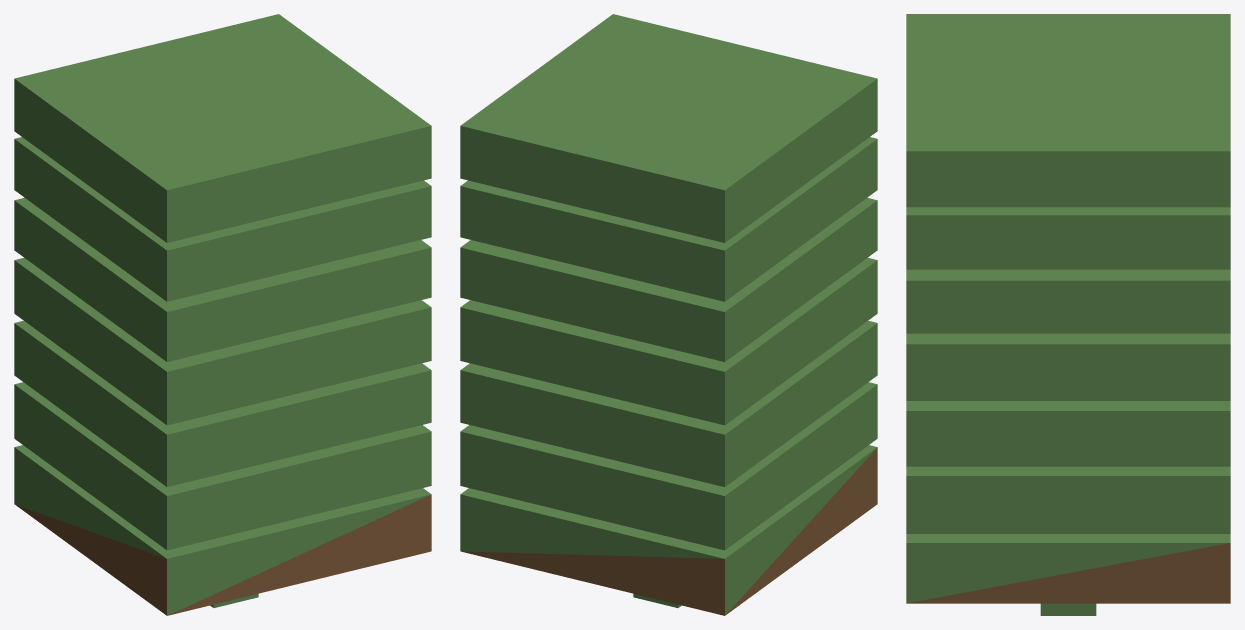
File: tree3d-044.glb
3 views of the same model, side by side, from view 1: azimuth 30°, elevation 25°; view 2: azimuth 150°, elevation 25°; view 3: azimuth 270°, elevation 25° (orthographic). The views are drawn at different scales.
Visible parts, largest first — view 1: tree3d-044; view 2: tree3d-044; view 3: tree3d-044.
Boxes of the visible parts, x1,y1,x2,y2 form: tree3d-044: (14, 14, 431, 615); tree3d-044: (460, 14, 877, 615); tree3d-044: (906, 14, 1230, 615).
Size of the model in its own units: 0.5639 by 1 by 0.5639.
